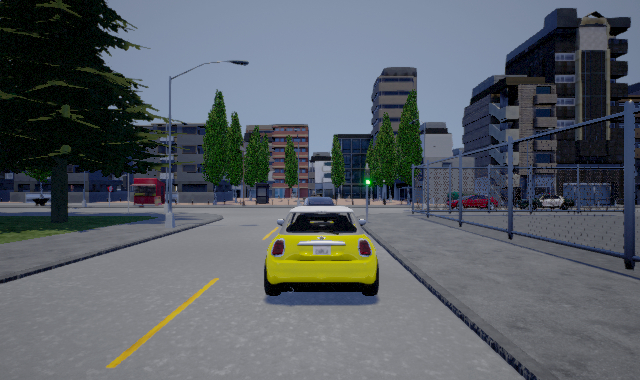traffic_light: (363, 169, 372, 186)
vehicle: (264, 205, 379, 296), (516, 193, 574, 210), (445, 196, 500, 209)
